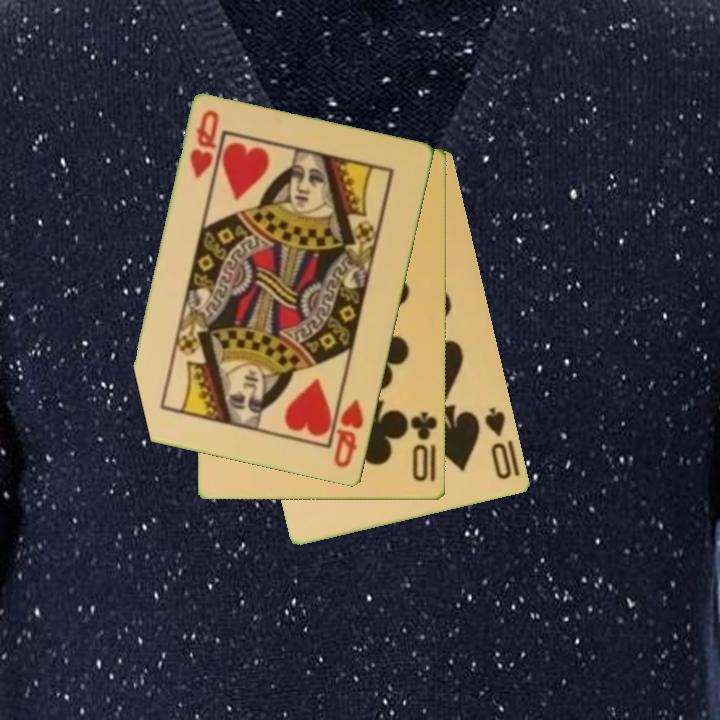10c: (407, 409, 440, 485)
10s: (481, 404, 515, 483)
Qh: (186, 106, 223, 182), (331, 396, 367, 471)
